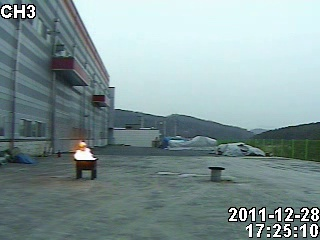fire: (70, 135, 98, 160)
